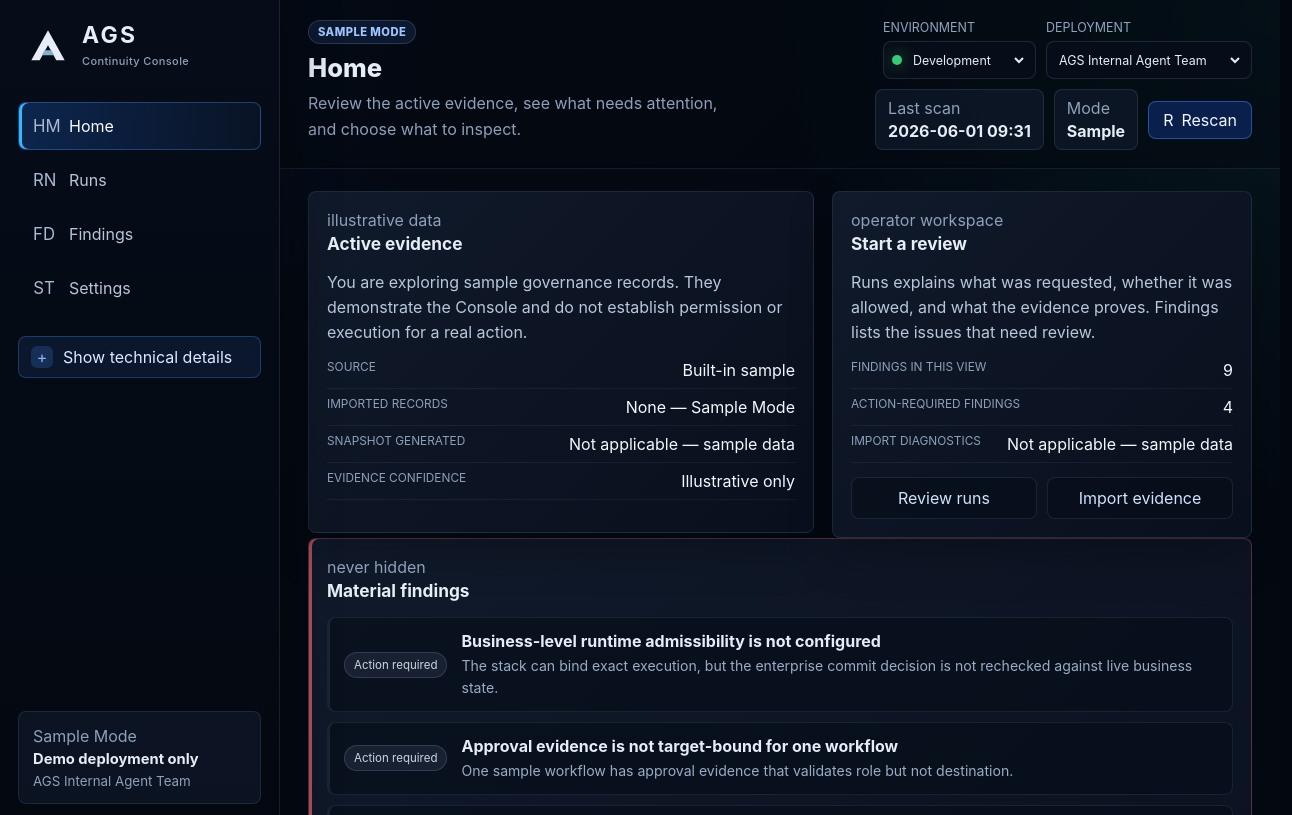
Scenario: Continuity Console operator shell › renders Runs with an operator verdict and imported trace rendering
Click the button "Settings" at (140, 288), box [18,264,261,312]
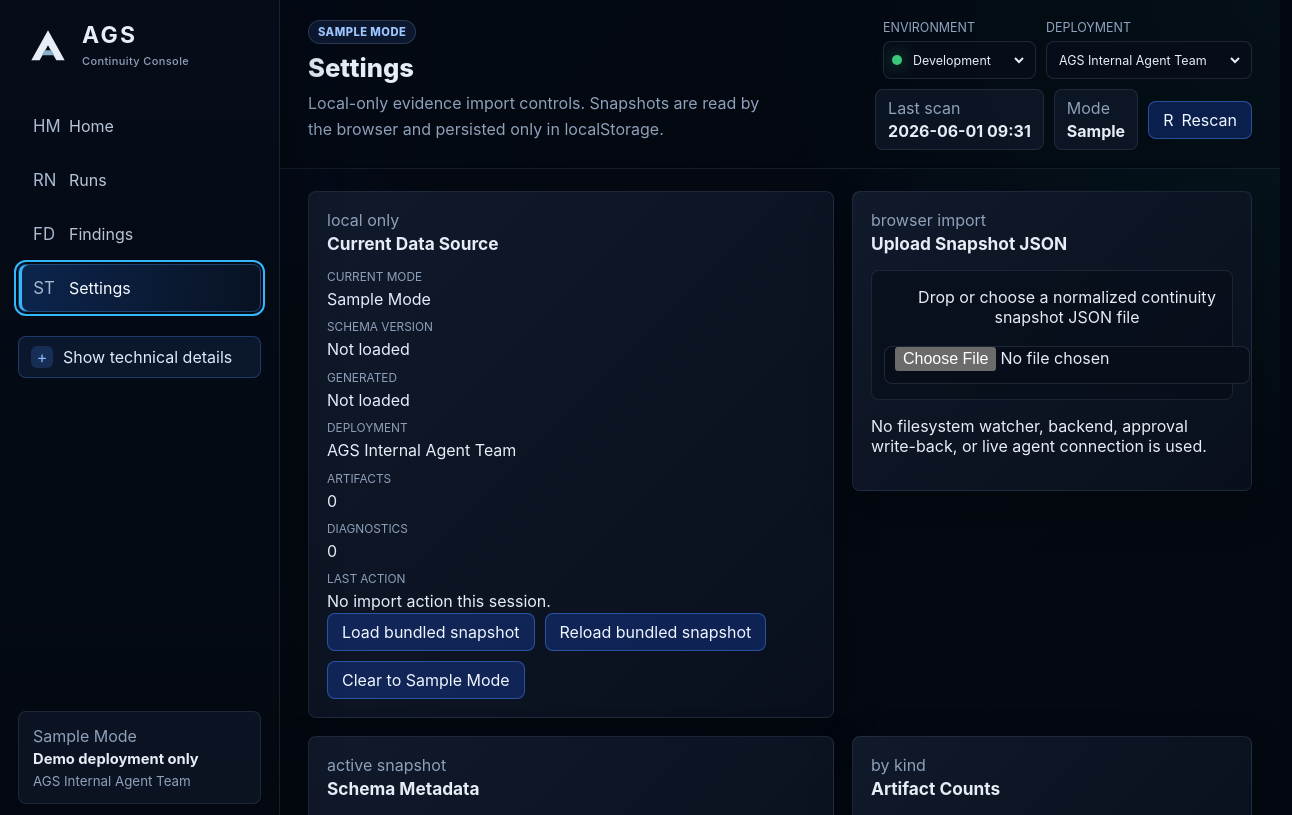
Click the button "Load bundled snapshot" at (431, 632), box [327,613,534,651]
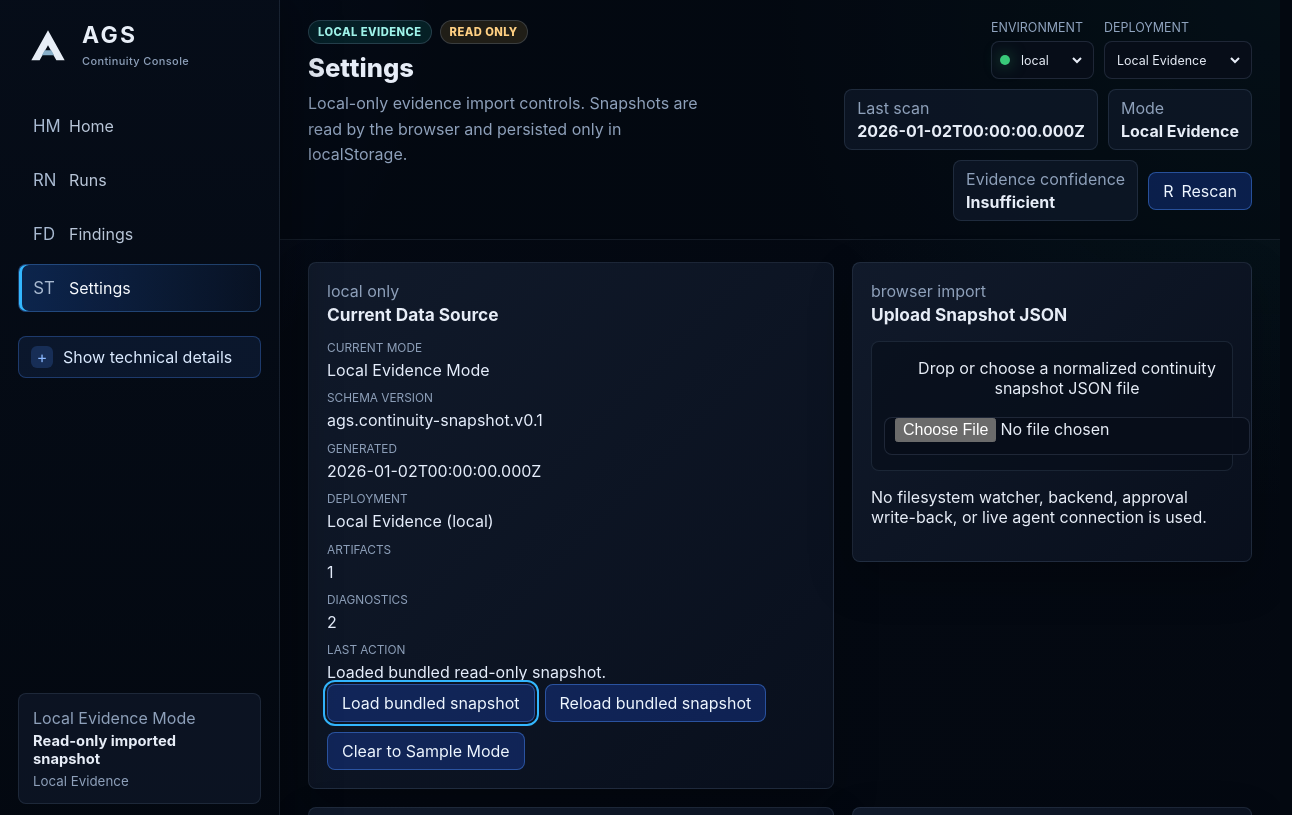
Click the button "Runs" at (140, 180), box [18,156,261,204]
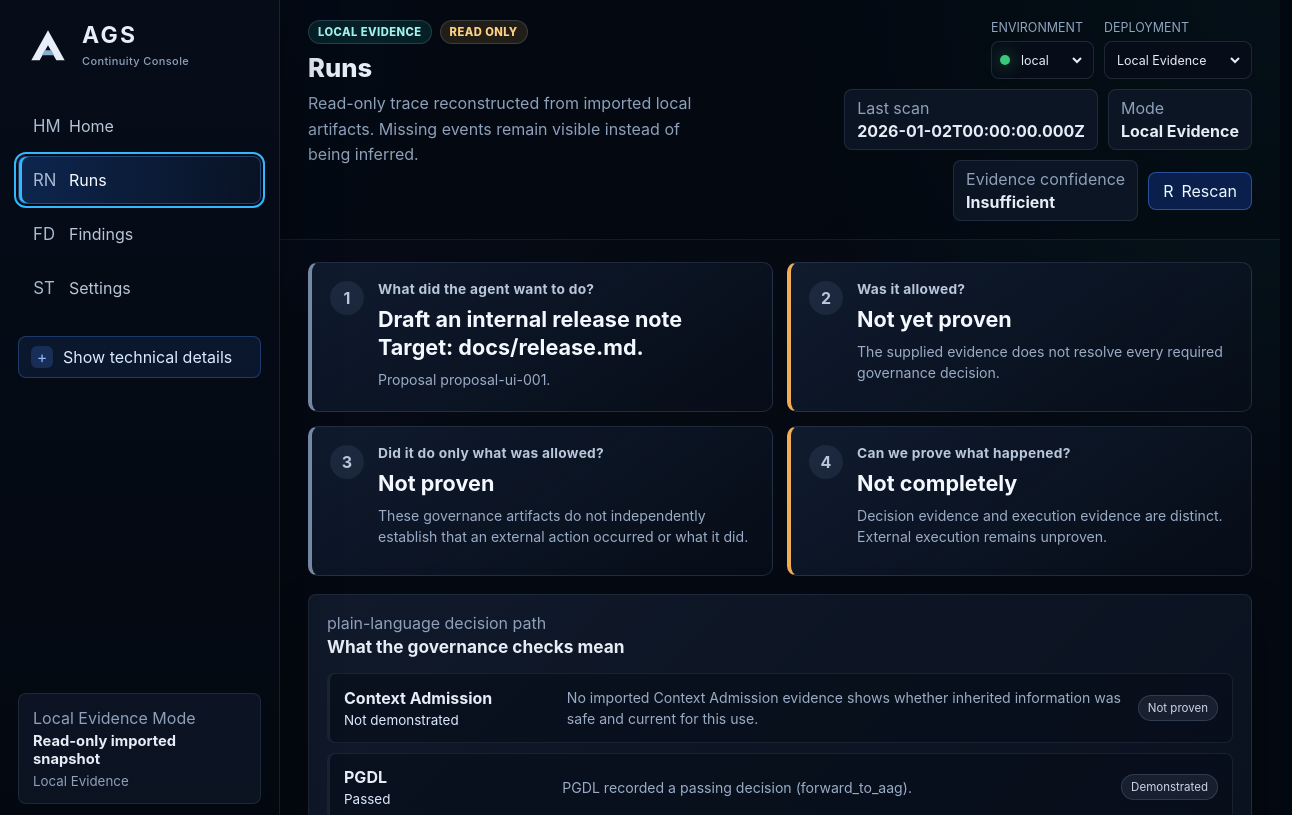
Now the heading "Runs" is shown, box [308,52,372,83]
Now the text "Can we prove what happened?" is shown, box [857,445,1071,461]
Now the heading "Not completely" is shown, box [857,470,1017,496]
Click the button "+ Show technical details" at (140, 357), box [18,336,261,378]
(page scrolled)
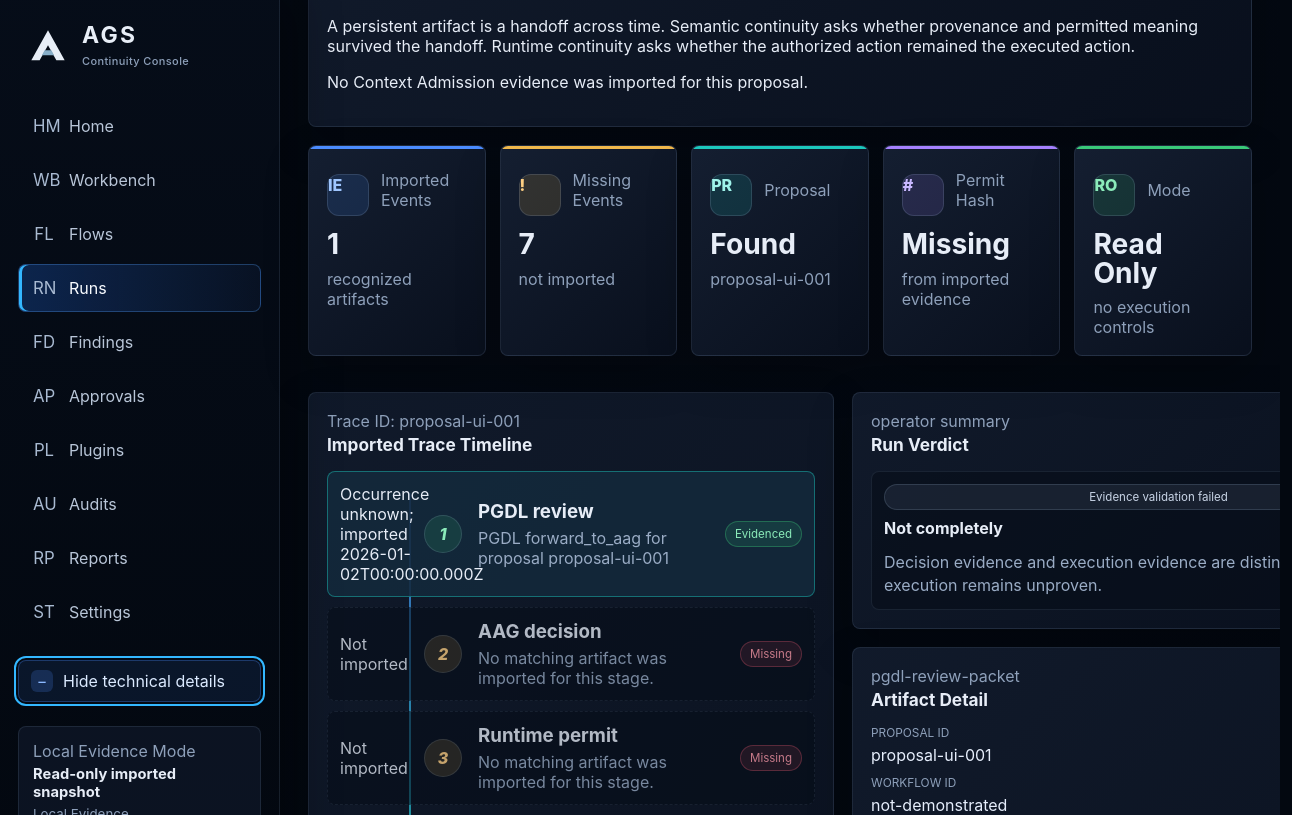
Now the heading "Run Verdict" is shown, box [871,434,969,455]
Now the heading "Imported Trace Timeline" is shown, box [327,434,532,455]
